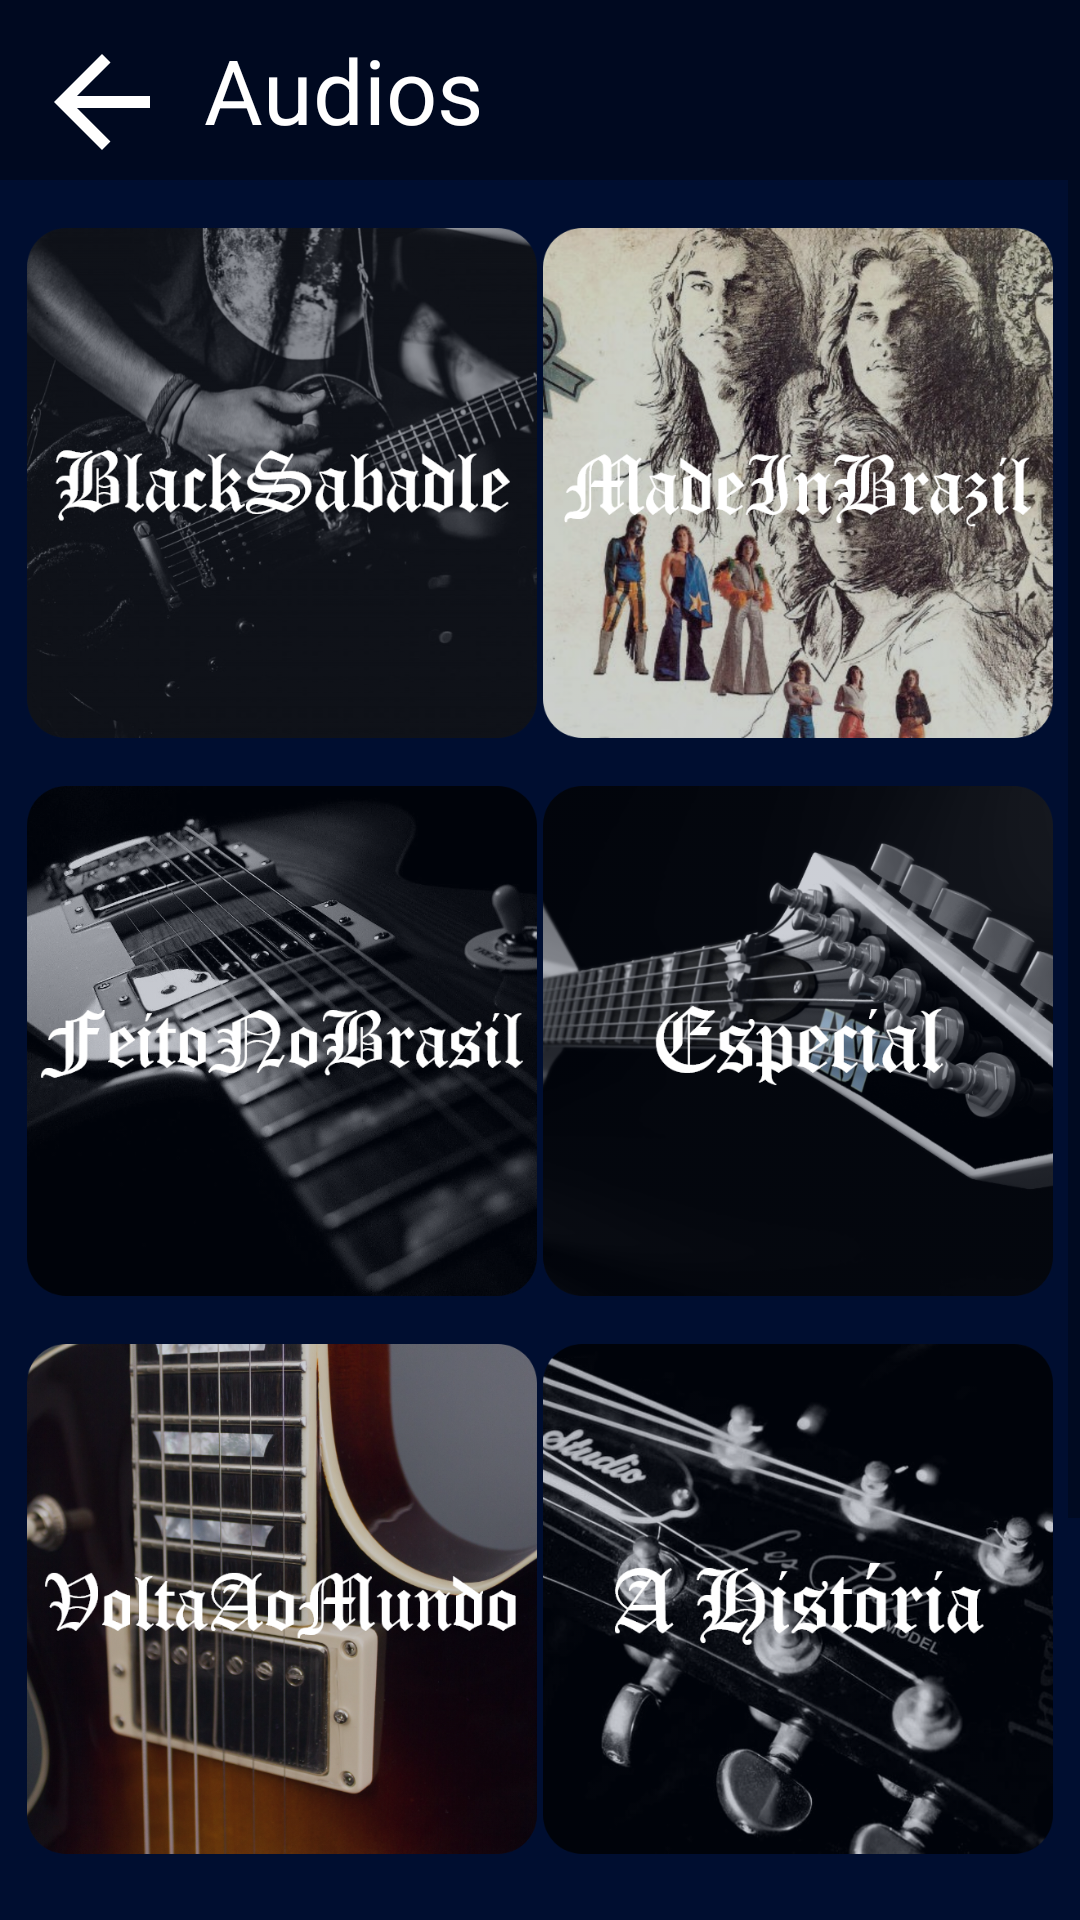

Named icons in this screenshot (1080px×1920px) and their centers, (x,y):
arrow back: (102,102)
